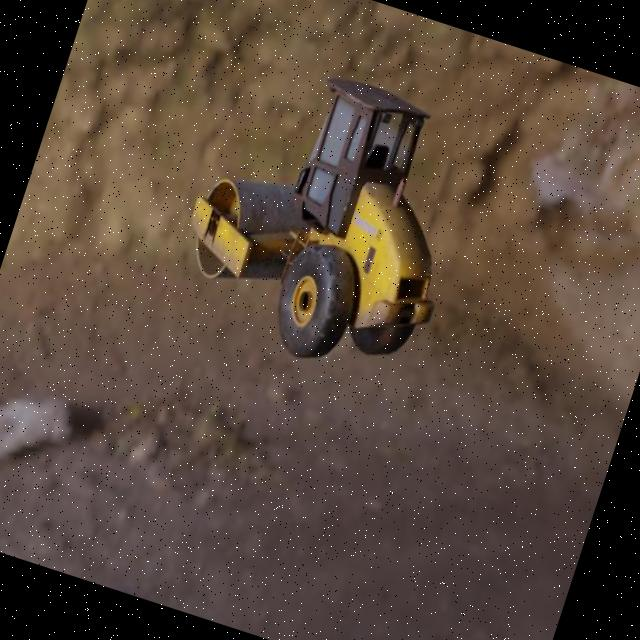Roller: (158, 43, 494, 394)
